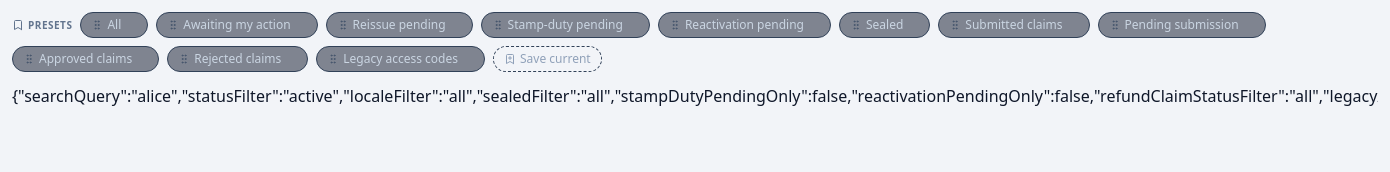
Test: CaseFilterPresets › saves a custom preset to localStorage
Click the button with test id "preset-save" at (547, 59), box [493,46,602,72]
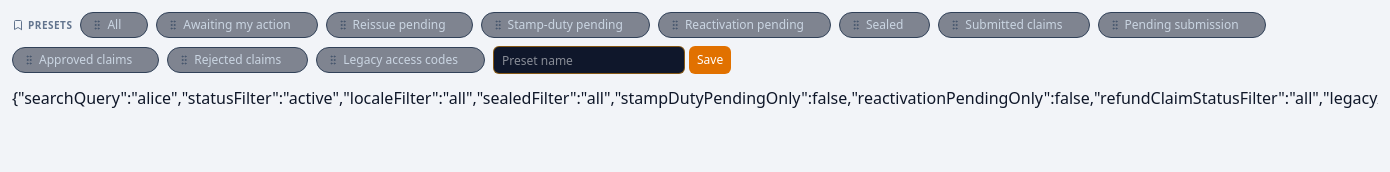
Type "My filter" into the field with placeholder "Preset name" at (589, 60), box [493,46,685,74]
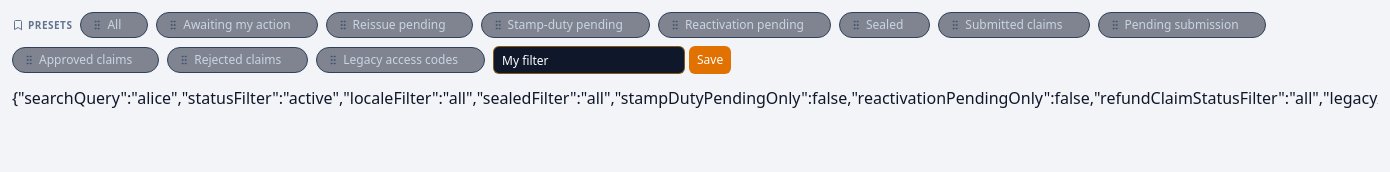
Click the button "Save" at (710, 60), box [689,46,731,74]
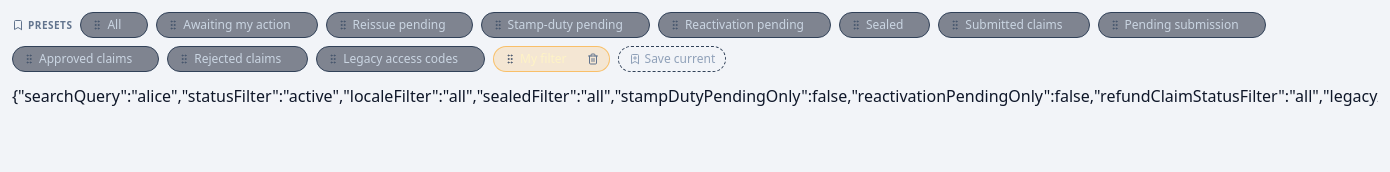
expect the text "My filter" is shown: met, box [493,46,610,72]
